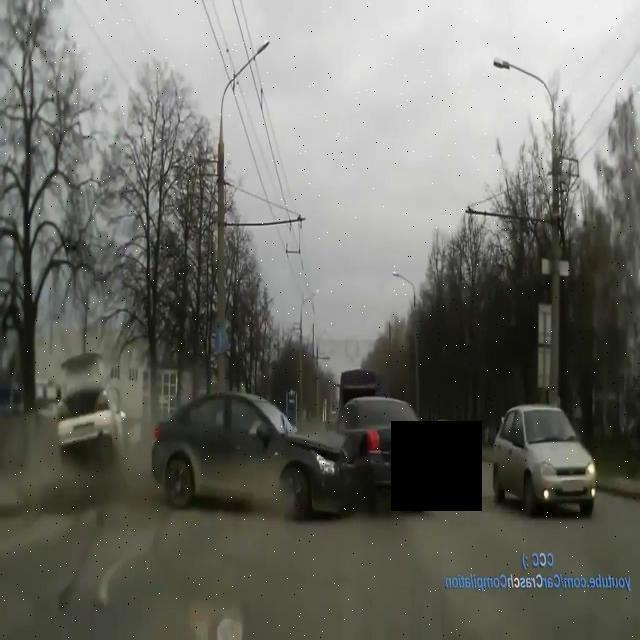multiple_accident: (147, 380, 371, 539), (43, 346, 141, 490)
